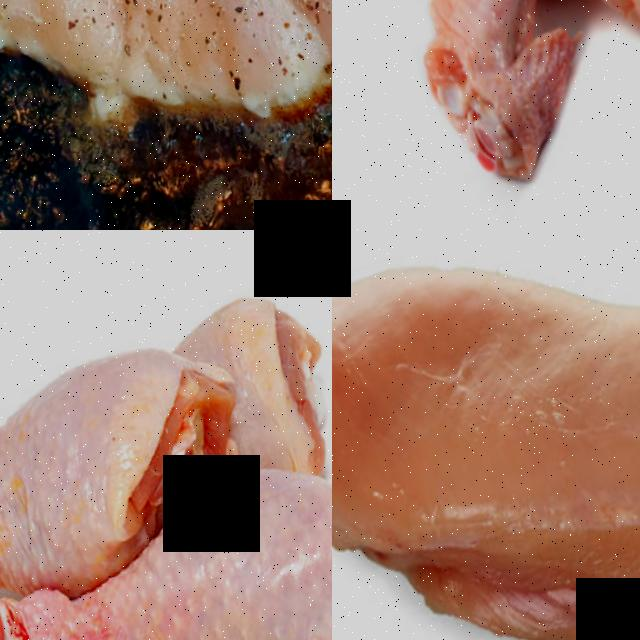chicken breast: (332, 230, 640, 640), (0, 0, 332, 183)
chicken thigh: (0, 324, 251, 635), (0, 458, 332, 640)
chicken wing: (341, 0, 640, 208)
